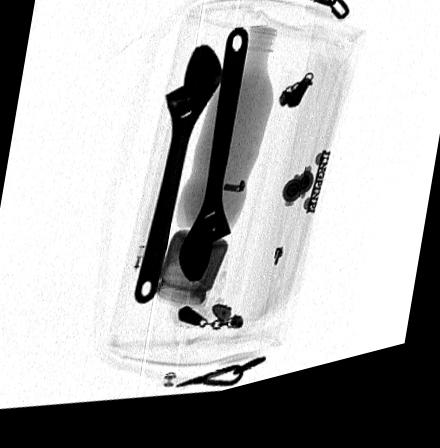Wrench: (135, 54, 220, 309), (179, 37, 249, 291)
